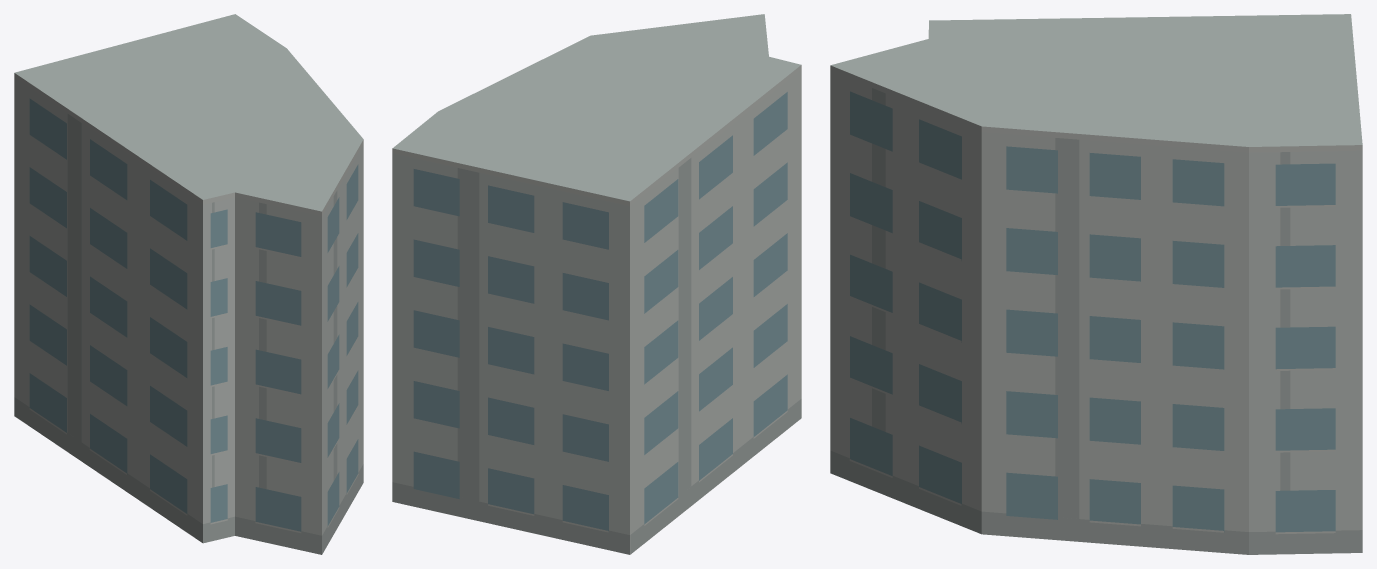
The model's file is survey-upis-32470476.glb.
3 views of the same model, side by side, from view 1: azimuth 30°, elevation 25°; view 2: azimuth 150°, elevation 25°; view 3: azimuth 270°, elevation 25° (orthographic). The views are drawn at different scales.
Parts seen in each view (by area): view 1: survey-upis-32470476.tmp; view 2: survey-upis-32470476.tmp; view 3: survey-upis-32470476.tmp.
Part boxes in pixels (x1,y1,x2,y2): survey-upis-32470476.tmp: (14, 14, 363, 554); survey-upis-32470476.tmp: (392, 14, 801, 554); survey-upis-32470476.tmp: (830, 14, 1362, 554).
Bounding box in the file's own units: 12.18 × 17.4 × 20.59.
